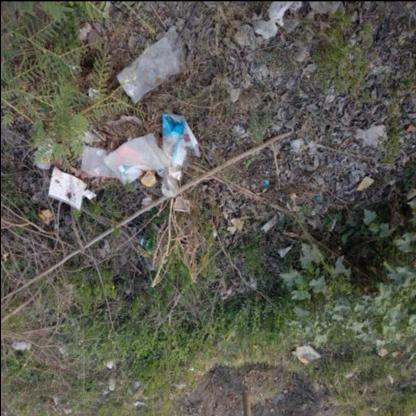Lid: (230, 328, 234, 336)
Paper: (47, 165, 86, 211)
Plastic bag - wrapper: (115, 24, 185, 102), (102, 132, 172, 185), (161, 112, 199, 168), (80, 144, 117, 177), (268, 0, 302, 24), (360, 124, 386, 144), (160, 166, 177, 196), (33, 140, 51, 168), (38, 208, 54, 224), (356, 175, 374, 189), (166, 162, 180, 180), (233, 124, 249, 139), (81, 127, 99, 140), (140, 171, 156, 185), (230, 217, 245, 230), (11, 341, 31, 350), (254, 186, 266, 194), (154, 168, 165, 176), (288, 190, 294, 198), (262, 178, 268, 184)
Plastic container: (173, 196, 189, 212)
Straw: (349, 172, 372, 192), (226, 330, 232, 340)
Styrofoam piece: (232, 27, 252, 45), (262, 214, 278, 232), (276, 244, 292, 256), (140, 194, 152, 208), (286, 194, 296, 210)
Unlabeled litter: (291, 343, 321, 365), (82, 188, 96, 199), (87, 86, 97, 97), (144, 200, 152, 212), (140, 236, 148, 245), (279, 33, 286, 41), (316, 193, 322, 201)
